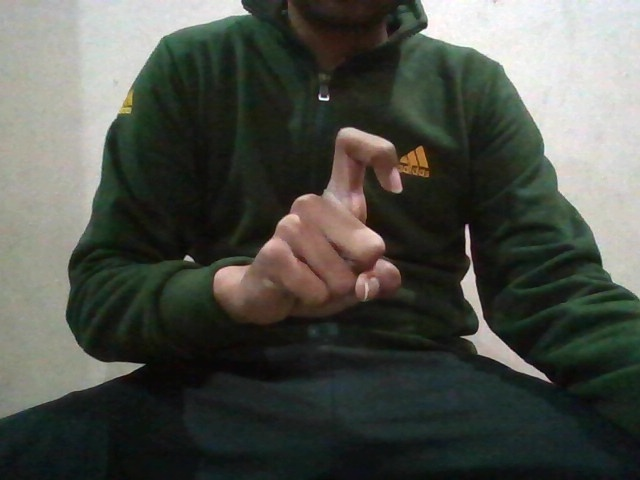P: (244, 120, 408, 338)
